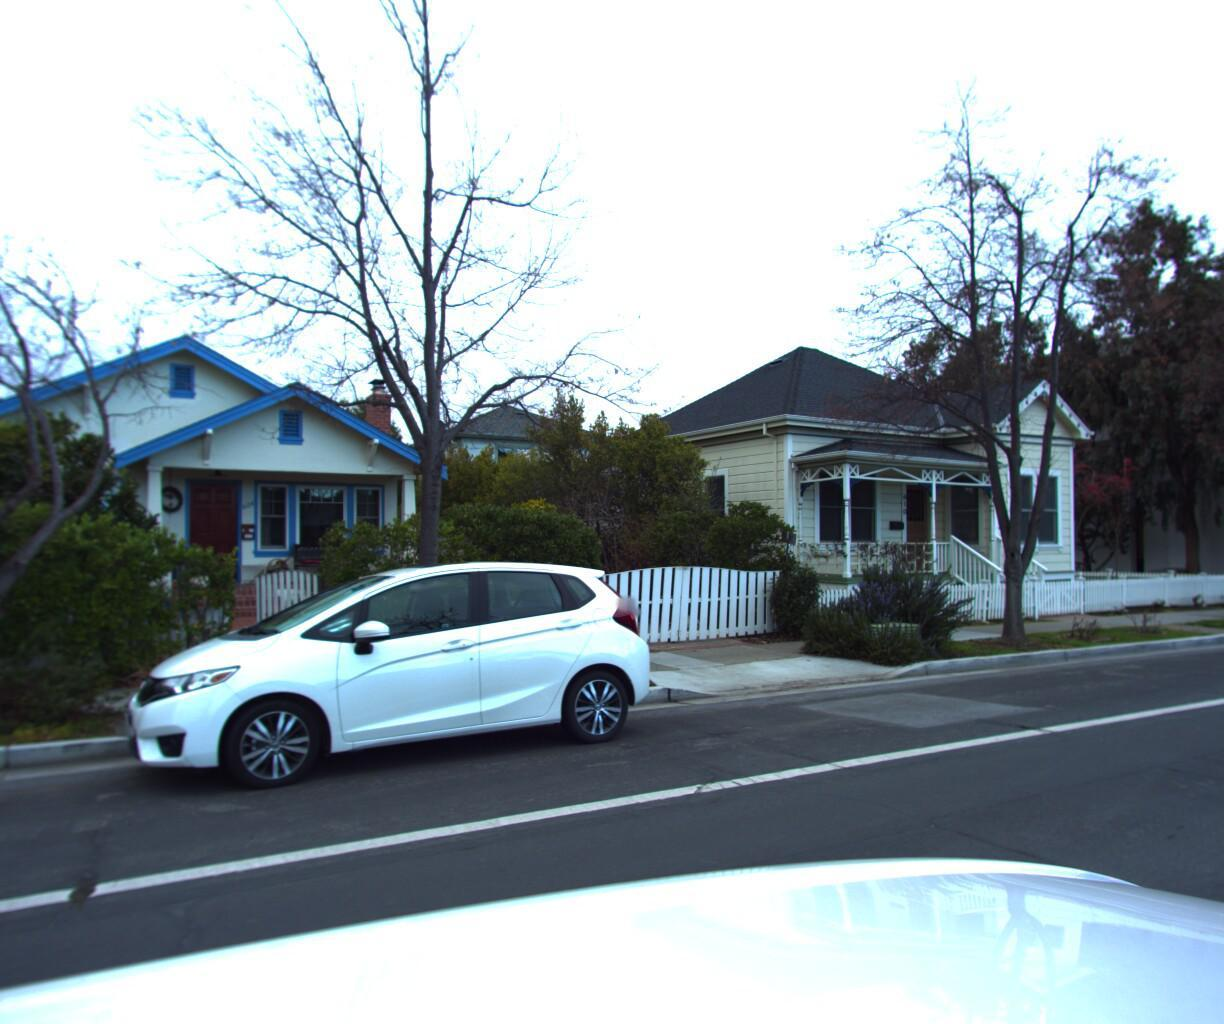car: (96, 540, 671, 807)
